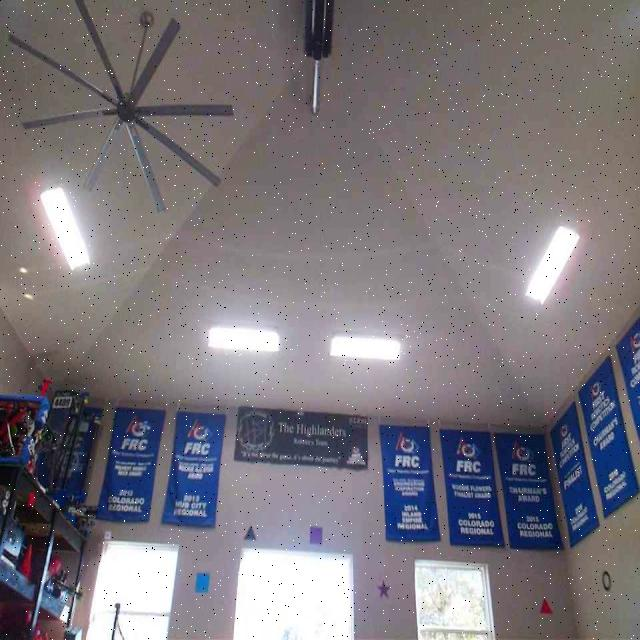ring_black: (601, 569, 611, 590)
square_blue: (195, 570, 209, 590)
square_purple: (308, 526, 322, 542)
star_black: (242, 524, 257, 538)
star_purple: (376, 580, 390, 598)
triangle_red: (538, 596, 554, 614)
